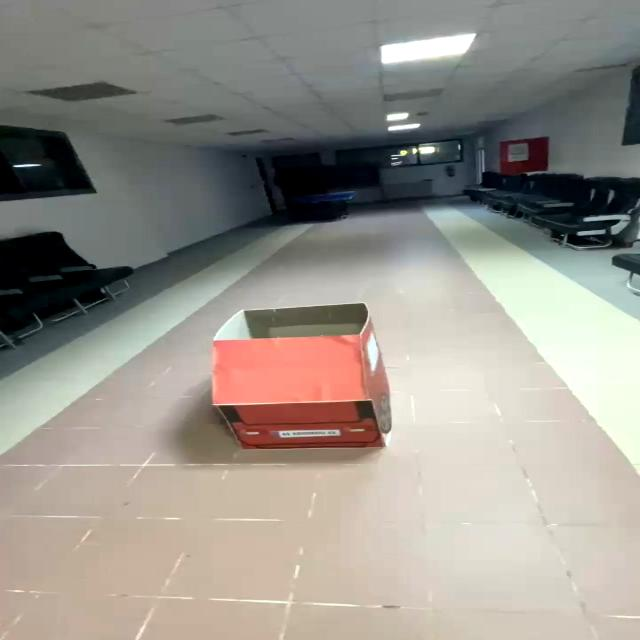red_car: (172, 294, 435, 465)
